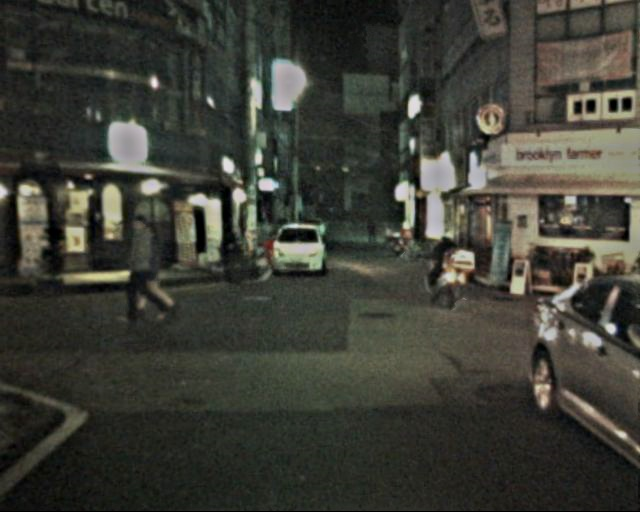person: (122, 211, 167, 322), (430, 231, 466, 313)
